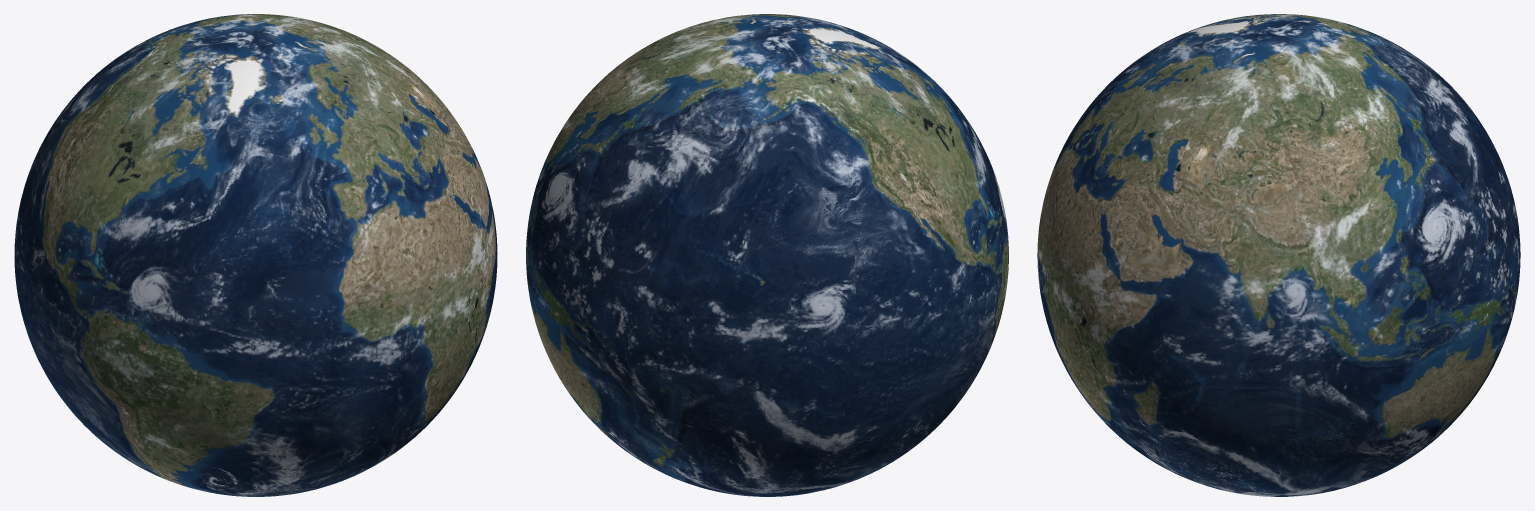
Rendered from earth-photoreal-detail-webp.glb.
3 views of the same model, side by side, from view 1: azimuth 30°, elevation 25°; view 2: azimuth 150°, elevation 25°; view 3: azimuth 270°, elevation 25° (orthographic).
Parts seen in each view (by area): view 1: Earth_Photoreal_Optimized; view 2: Earth_Photoreal_Optimized; view 3: Earth_Photoreal_Optimized.
Part boxes in pixels (x1=…): Earth_Photoreal_Optimized: x1=14, y1=14, x2=497, y2=496; Earth_Photoreal_Optimized: x1=526, y1=14, x2=1008, y2=496; Earth_Photoreal_Optimized: x1=1037, y1=14, x2=1520, y2=496.
Bounding box in the file's own units: 2 × 2 × 2.
1 material, 1 textured.
